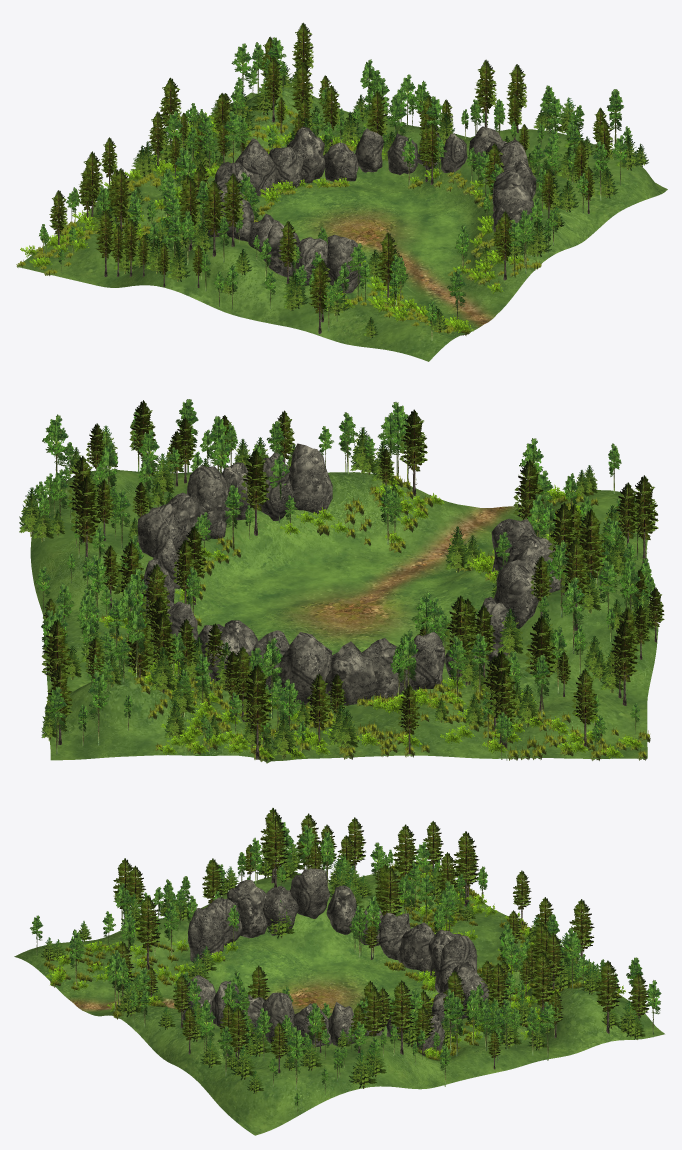
The model's file is deku-forest.glb.
3 renders of one model, top to bottom at view 1: azimuth 30°, elevation 25°; view 2: azimuth 150°, elevation 25°; view 3: azimuth 270°, elevation 25°, orthographic. The views are drawn at different scales.
Parts seen in each view (by area): view 1: Foliage, Ground, Cliffs, Trunks; view 2: Foliage, Ground, Cliffs, Trunks; view 3: Foliage, Ground, Cliffs, Trunks.
Part boxes in pixels (x1,y1,x2,y2): Foliage: (16,22,648,340); Ground: (17,87,667,361); Cliffs: (204,126,536,293); Trunks: (57,31,604,333); Foliage: (19,399,664,763); Ground: (30,469,658,762); Cliffs: (137,443,560,705); Trunks: (57,402,656,759); Foliage: (30,808,661,1112); Ground: (14,864,664,1135); Cliffs: (182,868,489,1052); Trunks: (121,810,639,1073).
Size of the model in its own units: 101 by 22.86 by 101.
4 materials, 4 textured.
